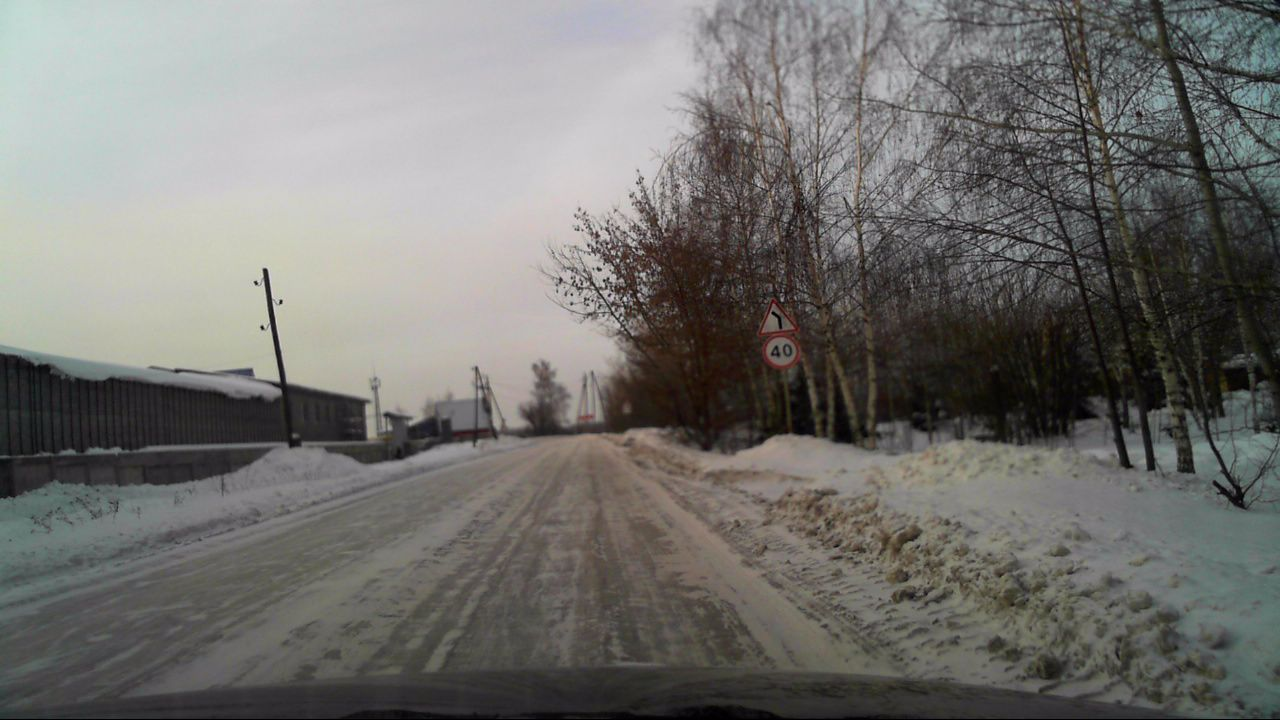speed_warning_40: (762, 337, 797, 368)
